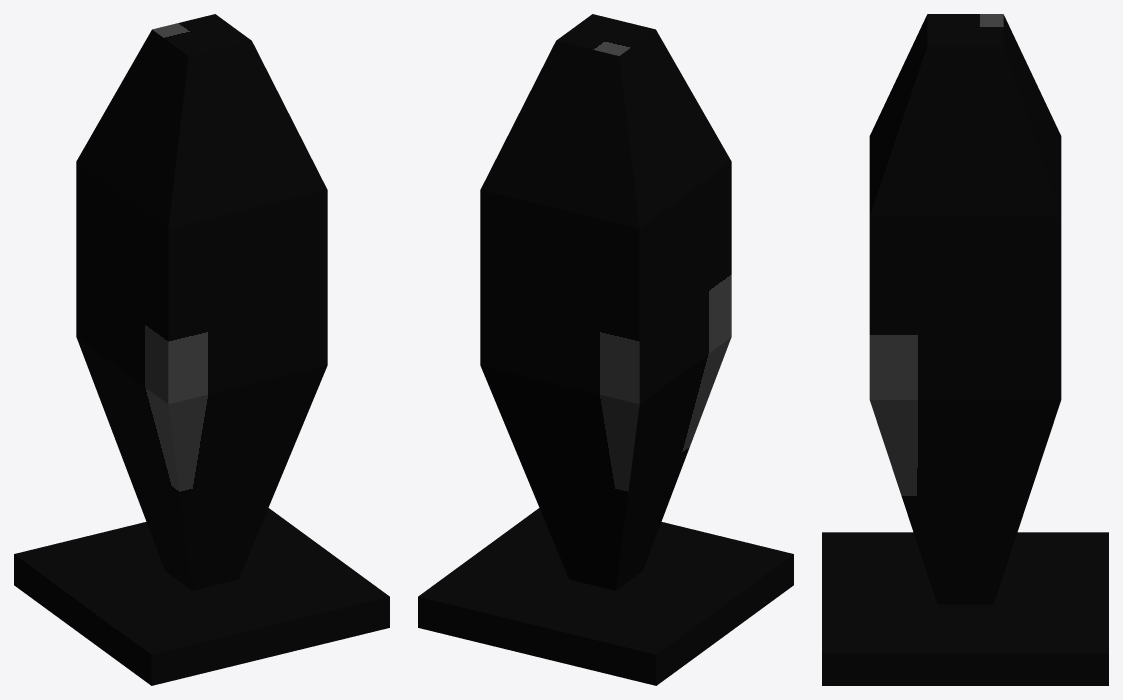
The model's file is crystal_relay.obj.
3 renders of one model, left to right at view 1: azimuth 30°, elevation 25°; view 2: azimuth 150°, elevation 25°; view 3: azimuth 270°, elevation 25°, orthographic. The views are drawn at different scales.
Parts seen in each view (by area): view 1: Cube.001_Cube.004, Cube_Cube.001; view 2: Cube.001_Cube.004, Cube_Cube.001; view 3: Cube.001_Cube.004, Cube_Cube.001.
Boxes of the visible parts, x1=… form: Cube.001_Cube.004: x1=76, y1=14, x2=327, y2=590; Cube_Cube.001: x1=14, y1=508, x2=389, y2=685; Cube.001_Cube.004: x1=480, y1=14, x2=731, y2=590; Cube_Cube.001: x1=418, y1=508, x2=793, y2=685; Cube.001_Cube.004: x1=869, y1=14, x2=1061, y2=604; Cube_Cube.001: x1=822, y1=532, x2=1108, y2=685.
Bounding box in the file's own units: 0.25 × 0.5728 × 0.25.
